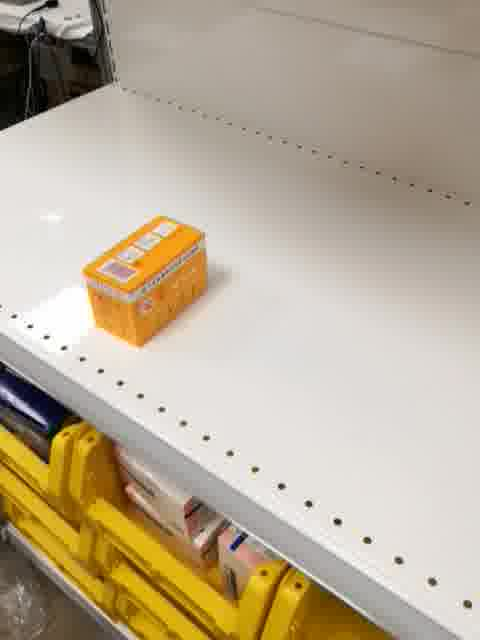jasminetea: (82, 211, 207, 349)
